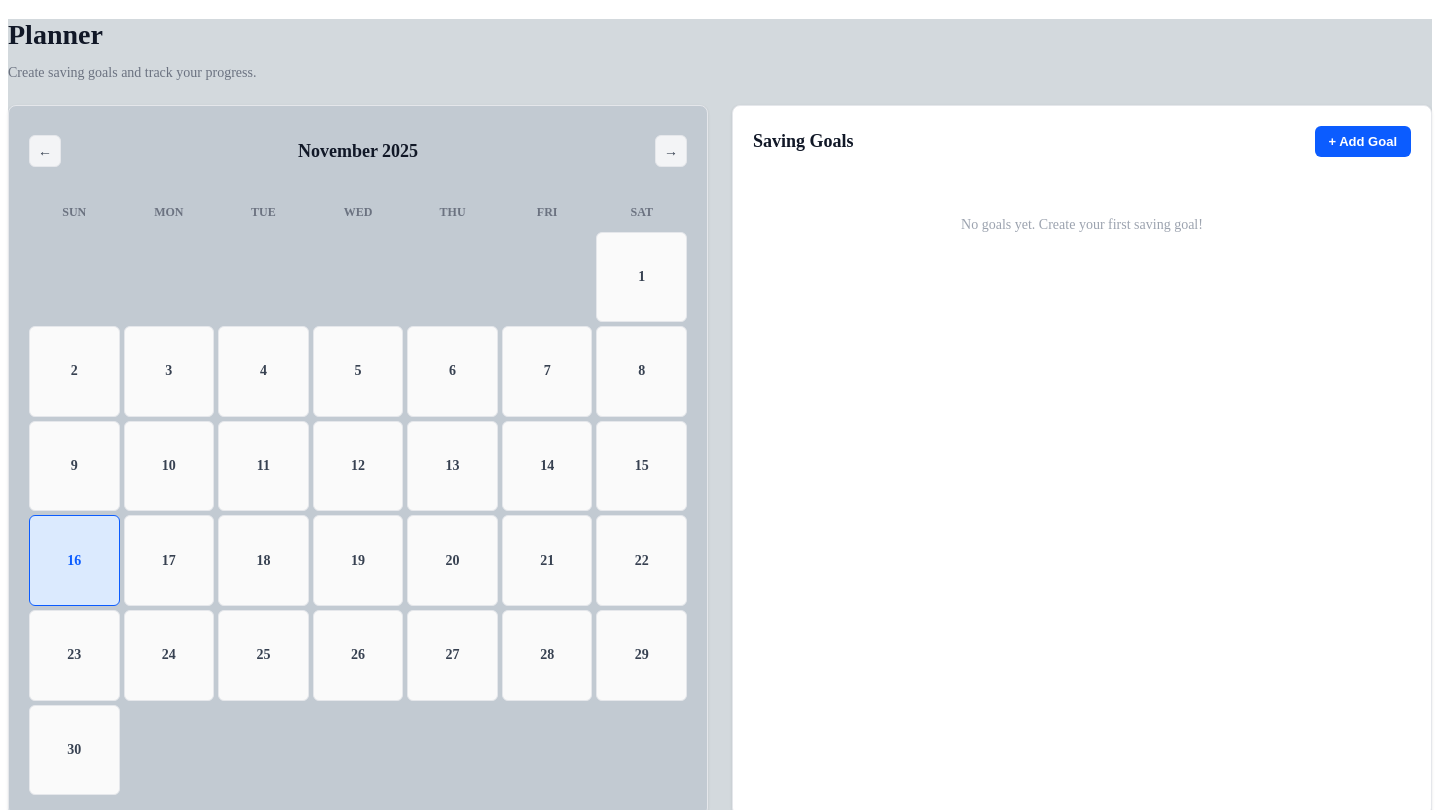
Test: FT13 - Planner Component Tests › Create New Saving Goals › should create a goal with minimum required fields
The image size is (1440, 810).
Click the button "+ Add Goal" at (1363, 141), box [1314,126,1411,157]
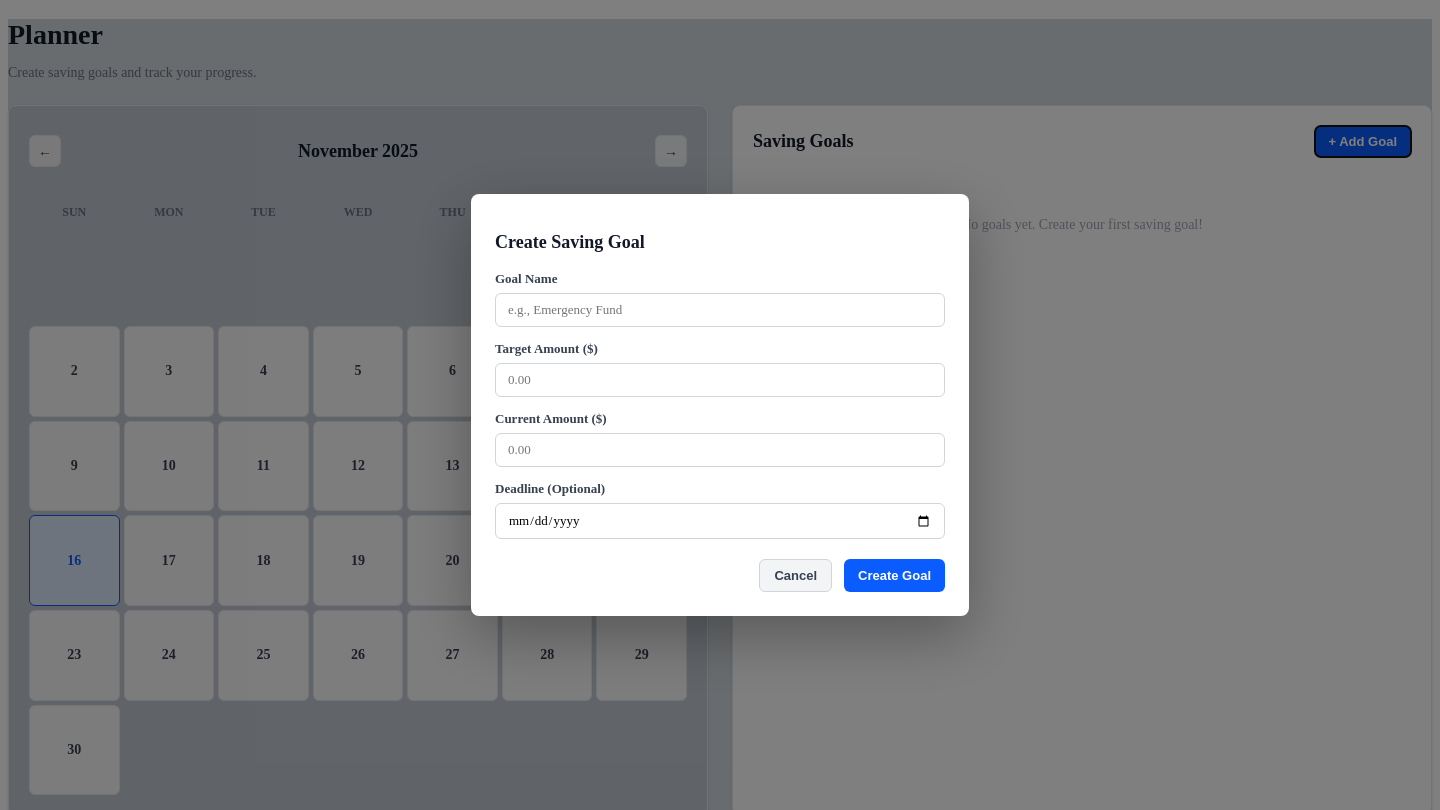
Expected: the heading "Create Saving Goal" is shown, [495,232,645,252]
Type "Vacation" into the field with placeholder "e.g., Emergency Fund" at (720, 310), box [495,294,945,328]
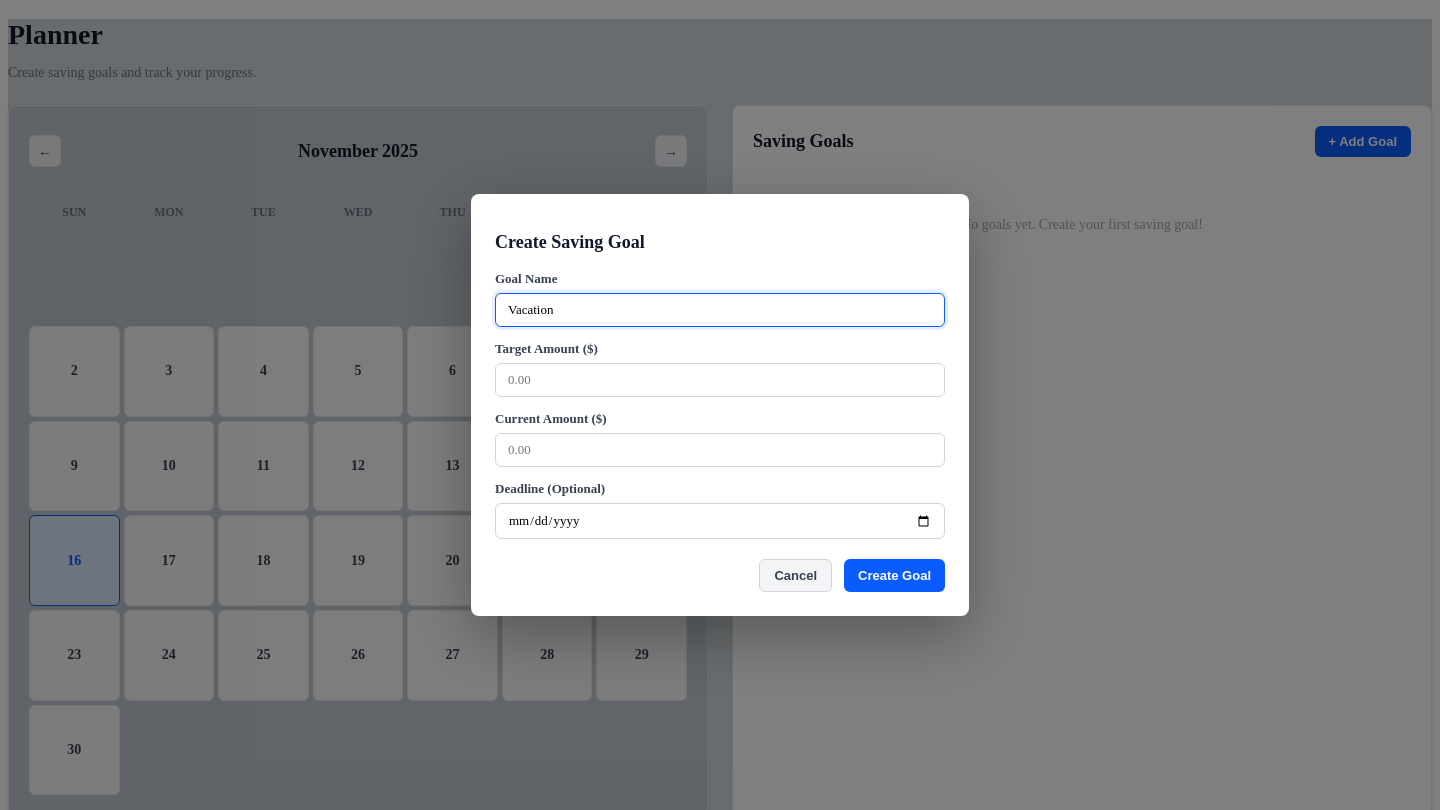
Type "3000" into the number field with placeholder "0.00" below "Target Amount ($)" at (720, 380), box [495,364,945,398]
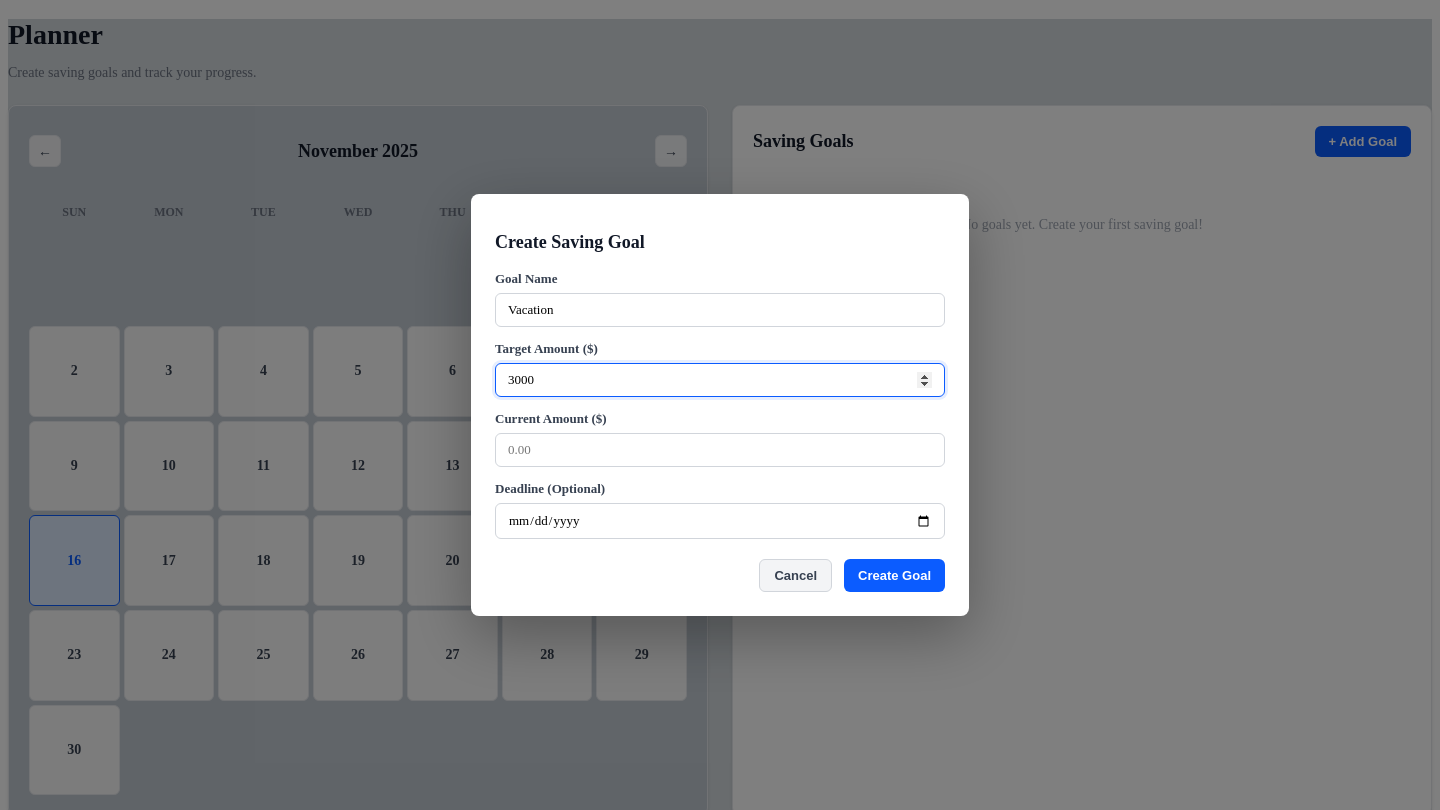
Click the button "Create Goal" at (894, 576), box [844,560,945,592]
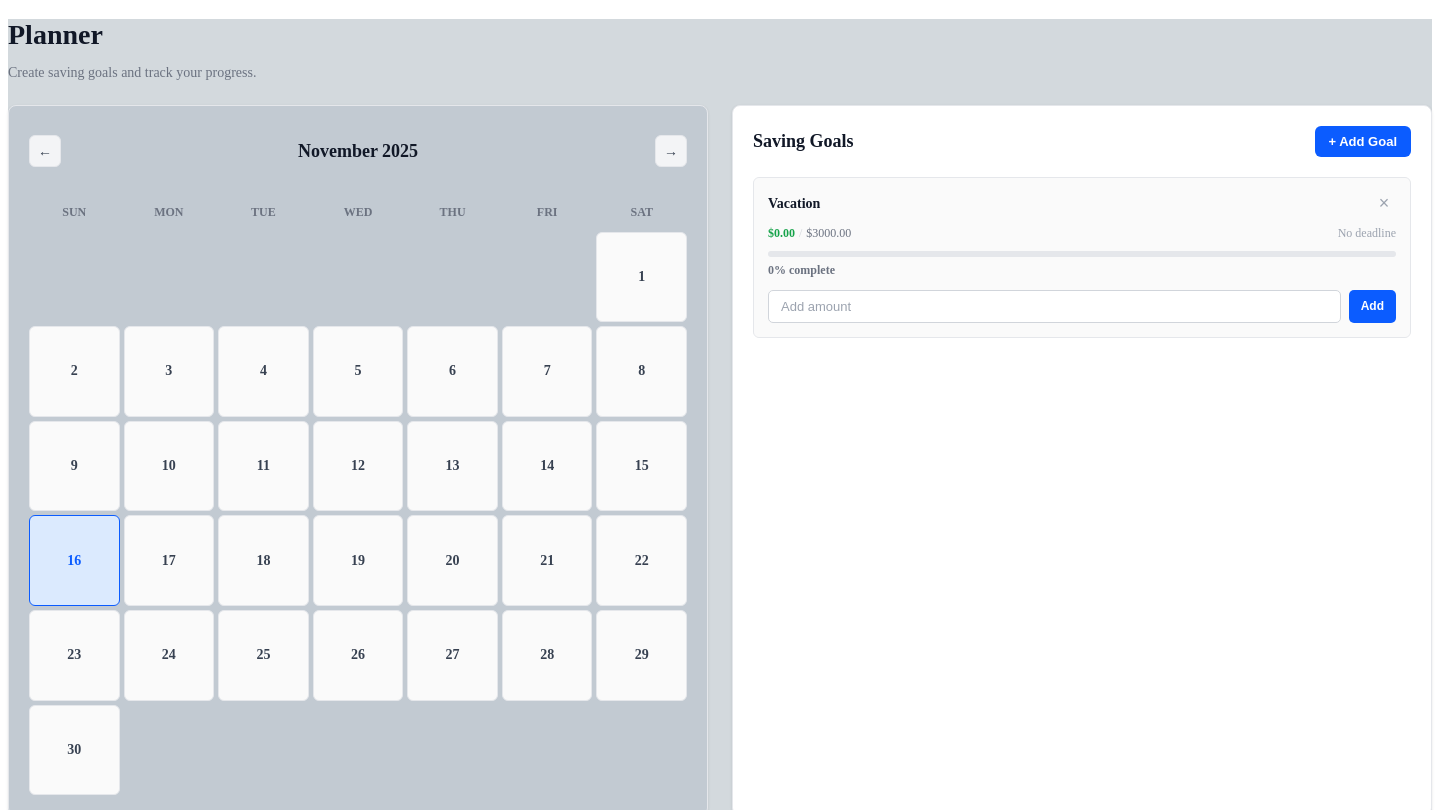
Expected: the heading "Vacation" is shown, [768,196,820,212]
